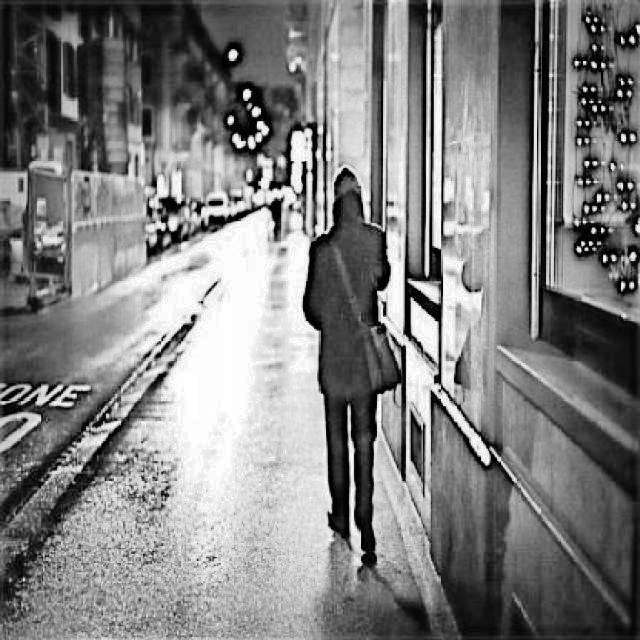Person: (303, 166, 392, 559)
